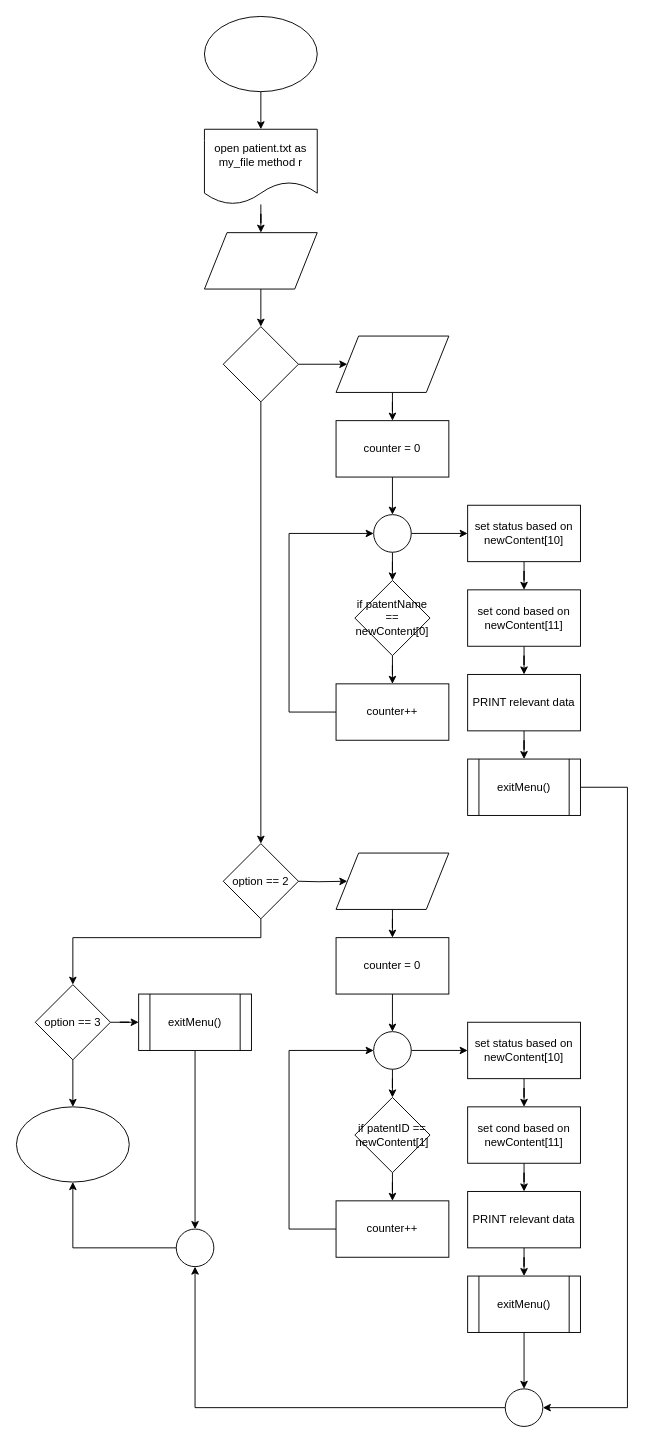
The diagram is 651 pixels wide and 1443 high, and some of its shapes have lost their labels. The box of each missing label's shape, as (x1, y1, x2, y2) in pixels:
"Choose option: " READ option: (204, 232, 317, 289)
"Enter patient ID:" READ patientID: (335, 852, 449, 909)
"Enter patient name:" READ patientName: (335, 335, 449, 392)
End: (16, 1106, 129, 1182)
option == 1: (222, 326, 298, 402)
Start: (204, 16, 317, 92)
